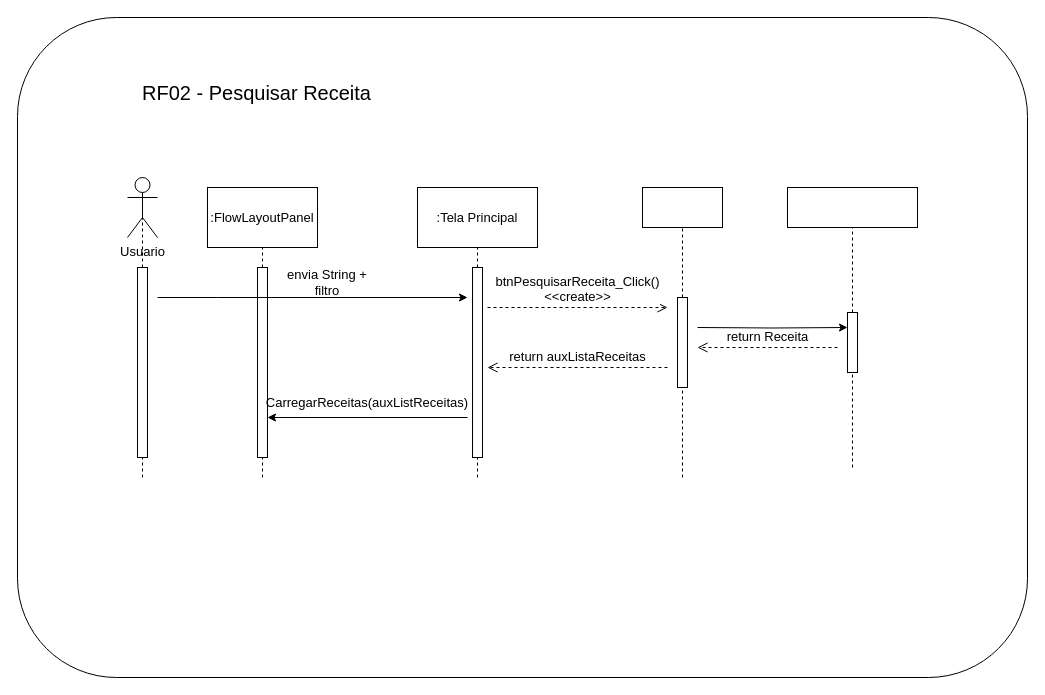
The diagram is 1045 pixels wide and 695 high, and some of its shapes have lost their labels. The box of each missing label's shape, as (x1, y1, x2, y2) in pixels:
:Arquivo.List<Receita>: (786, 186, 918, 228)
:List<Receita>: (642, 186, 722, 228)
